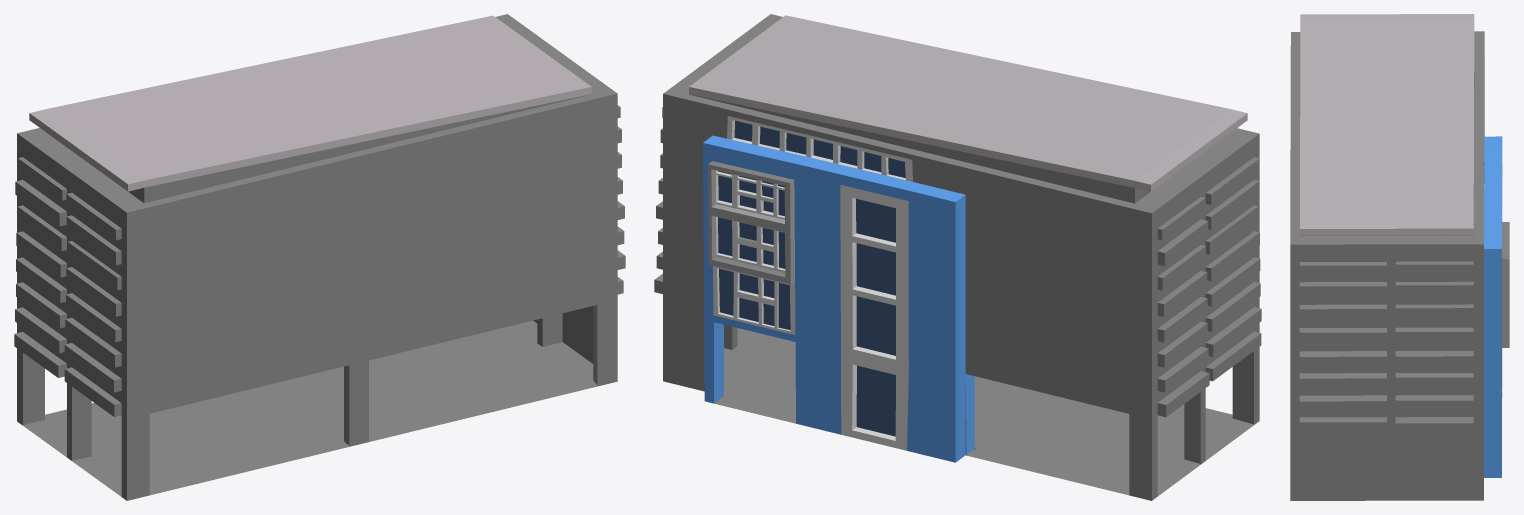
File: Building23rd.glb
3 views of the same model, side by side, from view 1: azimuth 30°, elevation 25°; view 2: azimuth 150°, elevation 25°; view 3: azimuth 270°, elevation 25° (orthographic). The views are drawn at different scales.
Visible parts, largest first — view 1: Cube.199; view 2: Cube.199; view 3: Cube.199.
Boxes of the visible parts, left/top/right/bottom form: Cube.199: left=14, top=14, right=625, bottom=500; Cube.199: left=654, top=14, right=1261, bottom=500; Cube.199: left=1290, top=14, right=1509, bottom=500.
Size of the model in its own units: 4.68 by 2.71 by 1.95.
